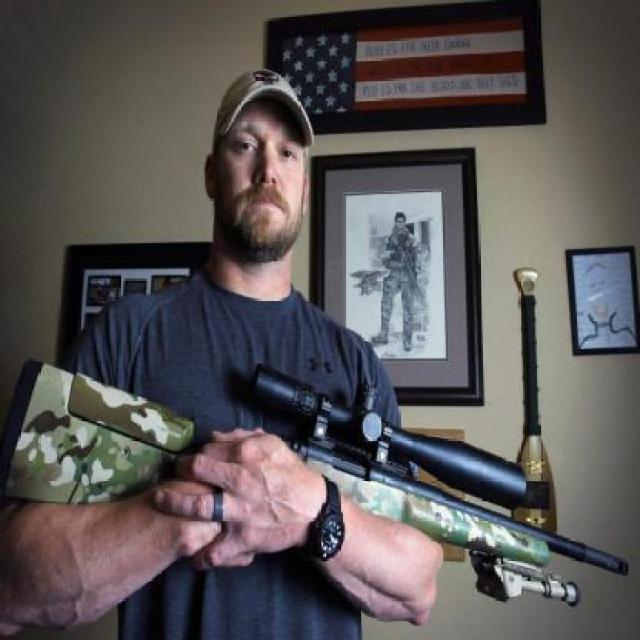weapon: (20, 350, 632, 602)
